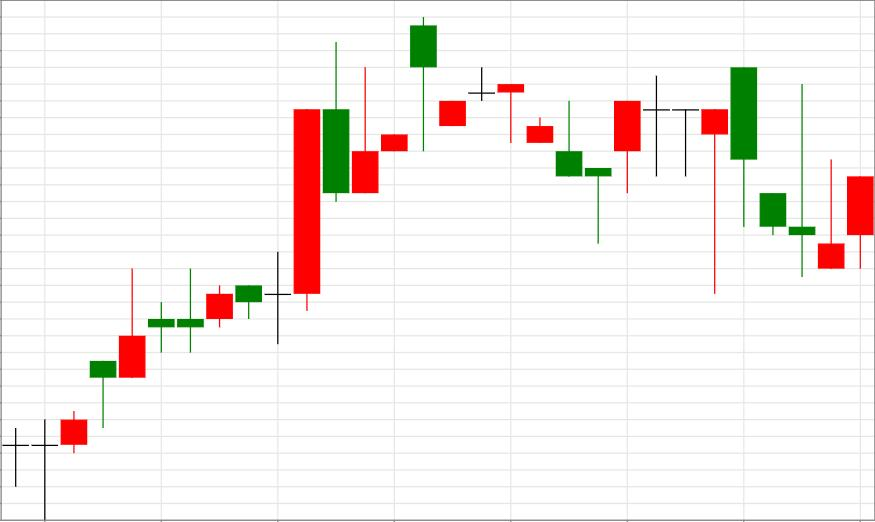hammer_rise: (264, 18, 437, 344)
